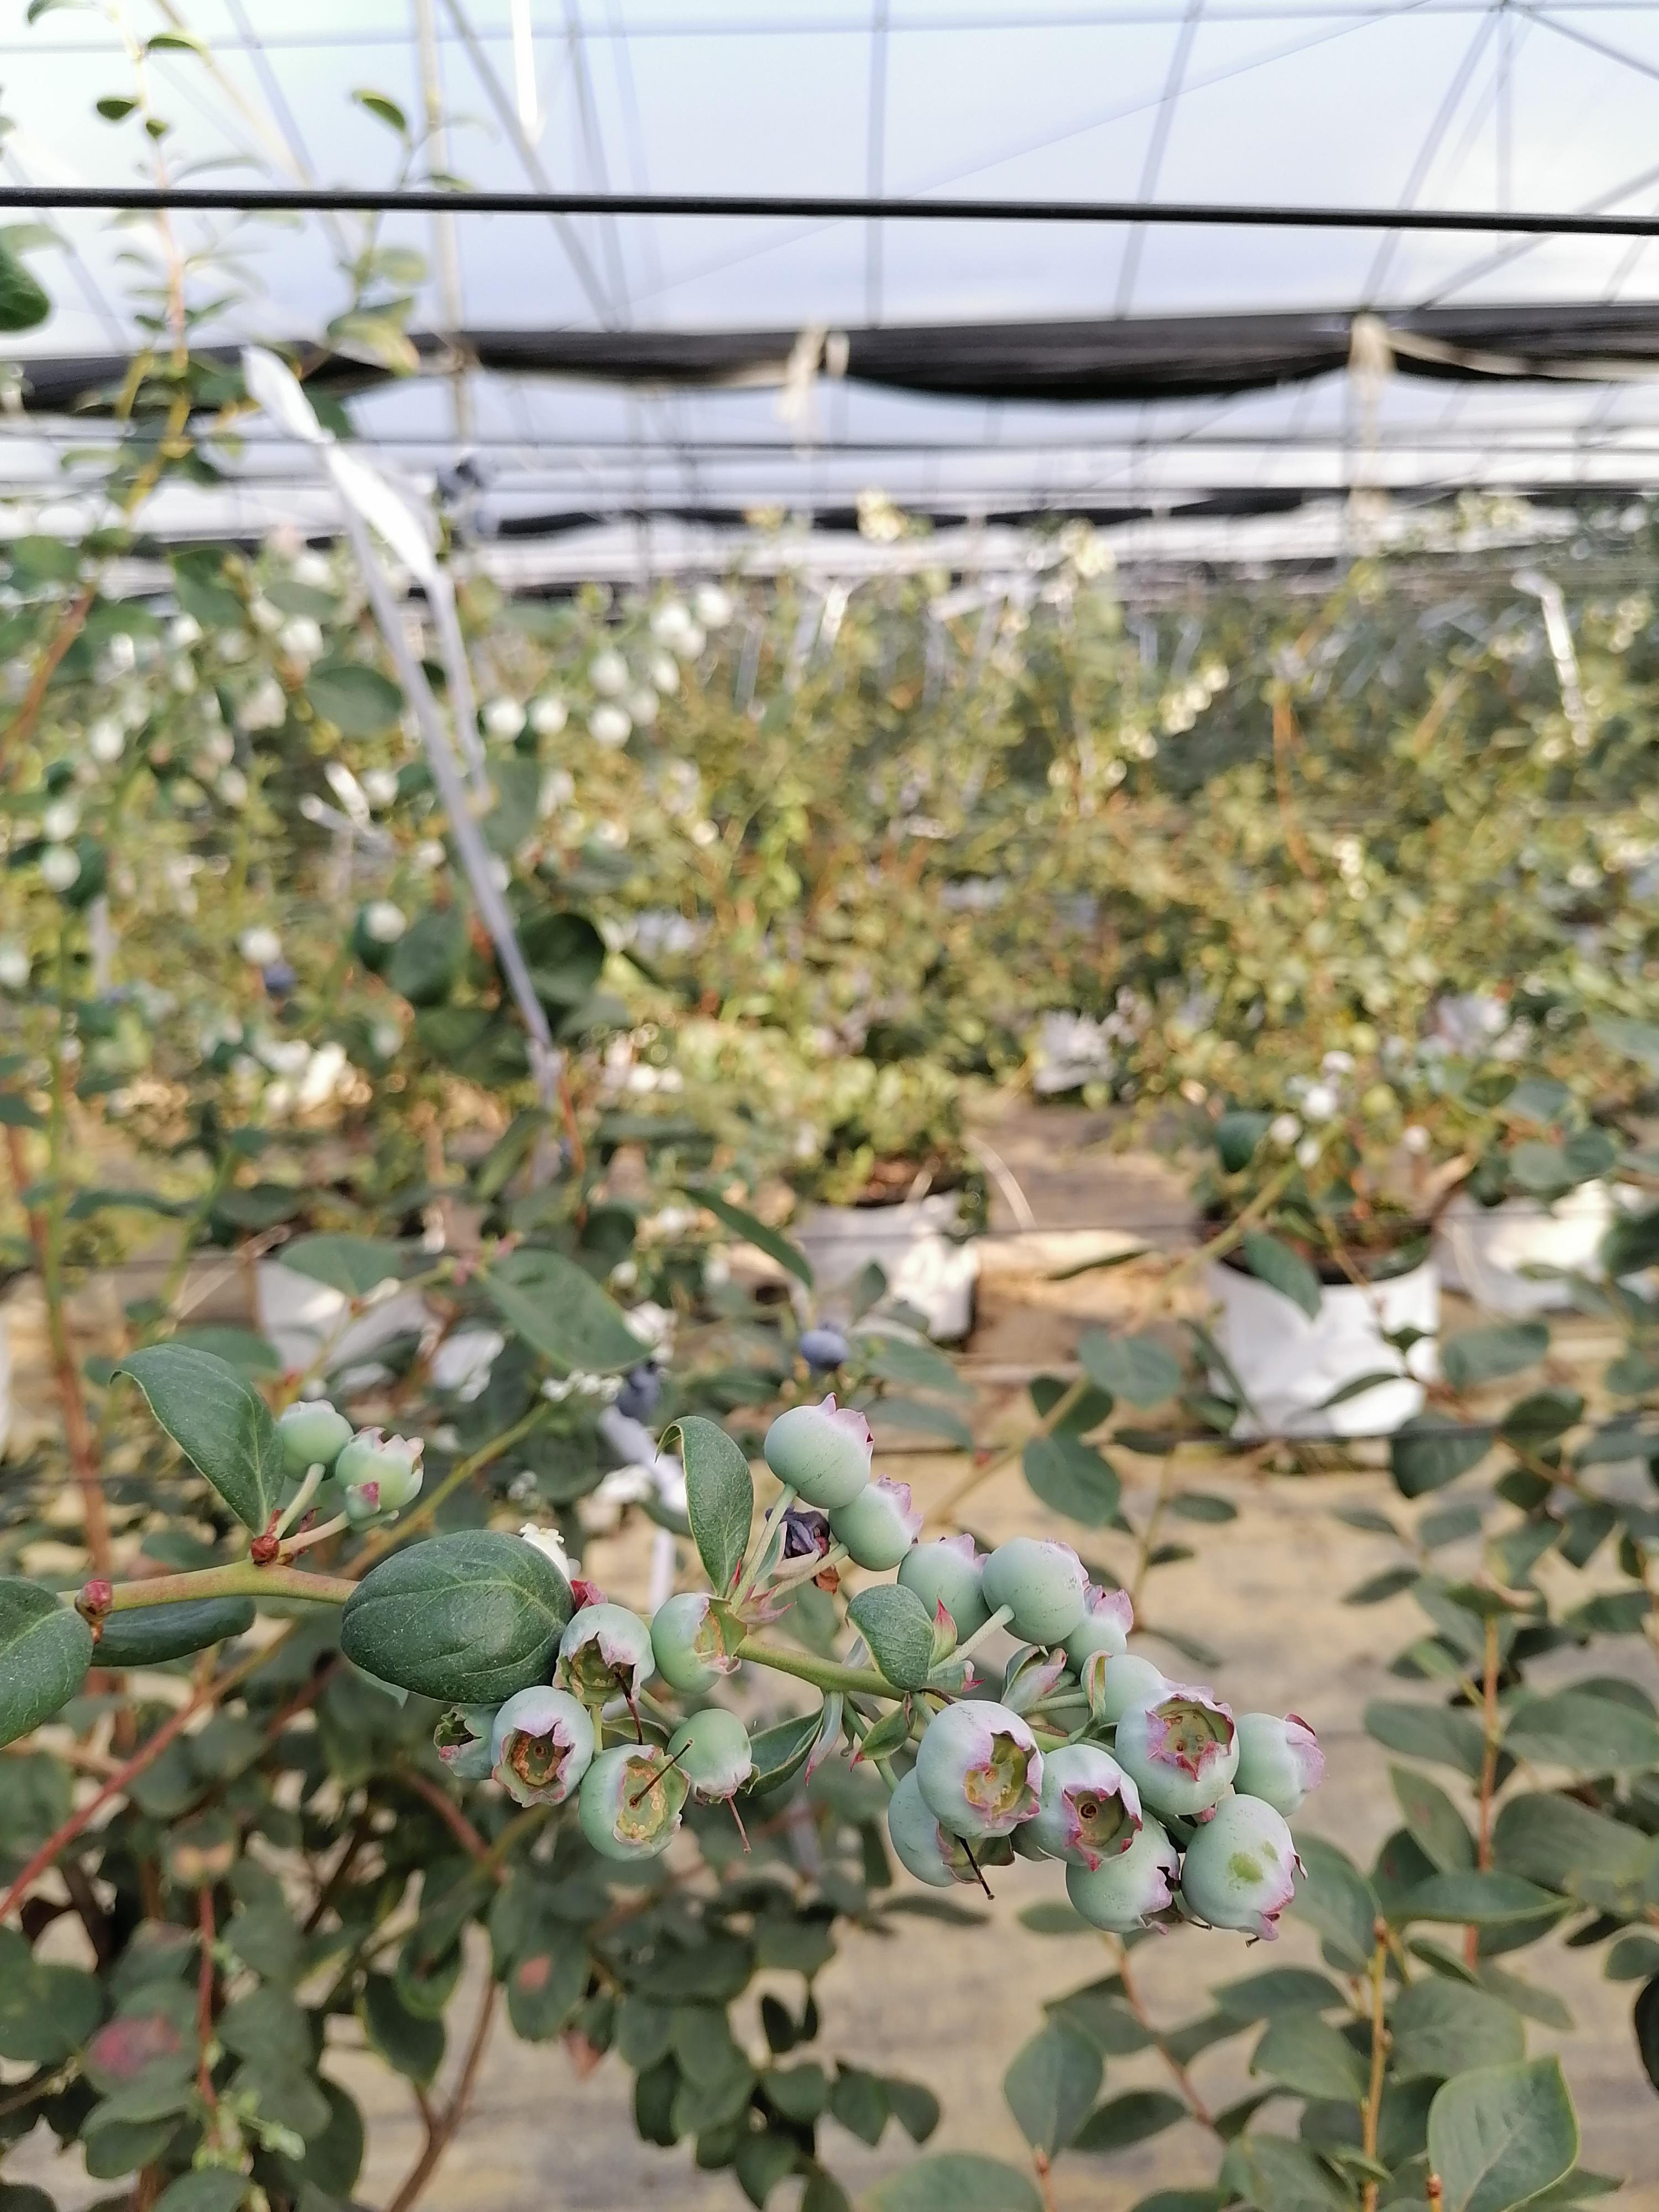ripe-blueberries: (798, 1320, 852, 1372)
